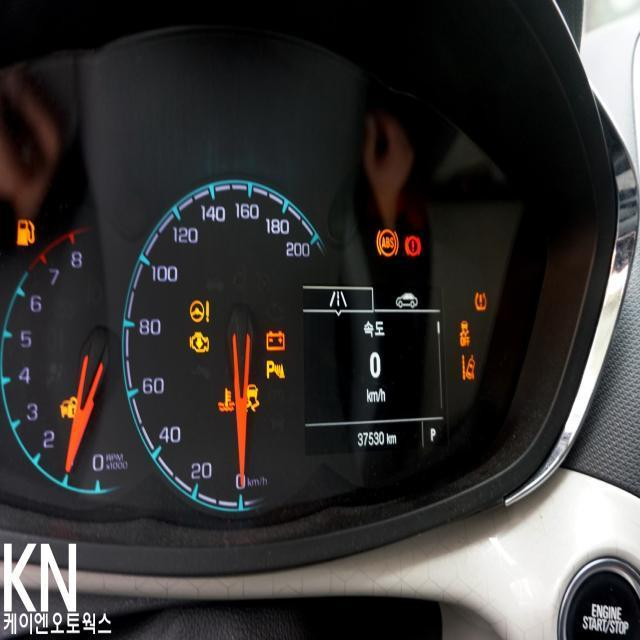Engine cooling system: (216, 386, 234, 412)
Low fuel level: (13, 216, 34, 246)
